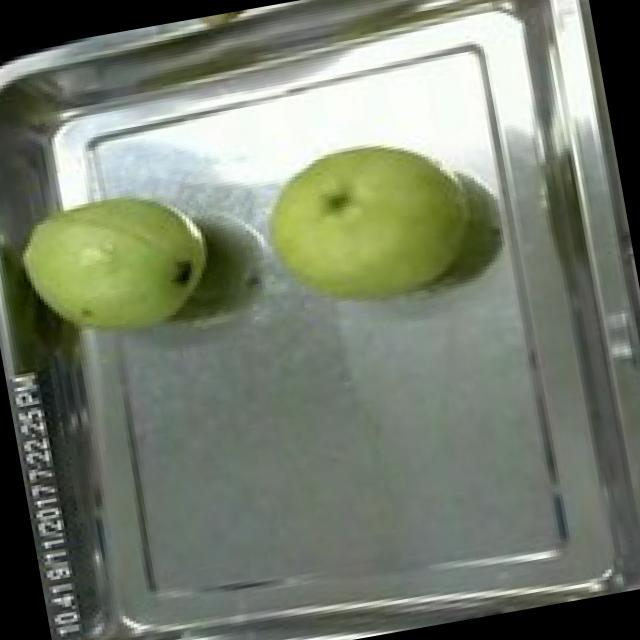Fruit: (244, 114, 490, 330), (0, 165, 231, 369)
